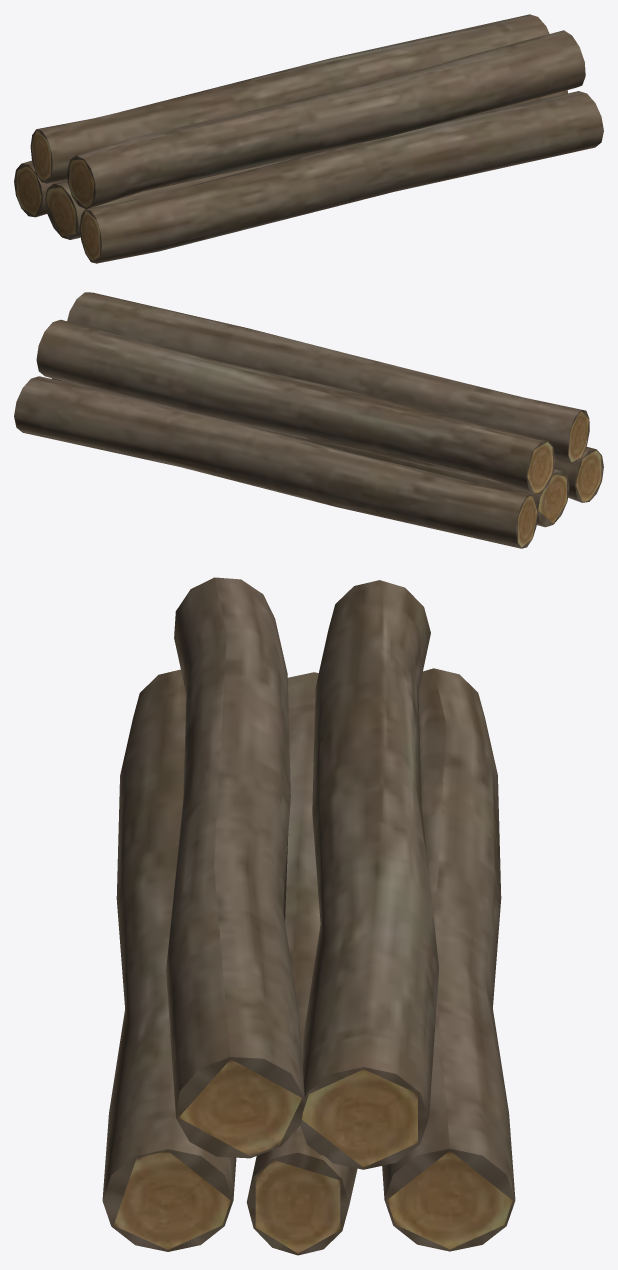
File: log-pile-s.lod0.glb
3 views of the same model, one above another, from view 1: azimuth 30°, elevation 25°; view 2: azimuth 150°, elevation 25°; view 3: azimuth 270°, elevation 25° (orthographic). The views are drawn at different scales.
Visible parts, largest first — view 1: Cylinder.008_Log_0; view 2: Cylinder.008_Log_0; view 3: Cylinder.008_Log_0.
Part boxes in pixels (bbox=[...]): Cylinder.008_Log_0: bbox=[14, 14, 603, 263]; Cylinder.008_Log_0: bbox=[14, 292, 603, 548]; Cylinder.008_Log_0: bbox=[102, 577, 515, 1255].
Size of the model in its own units: 3.2 by 0.6024 by 1.15.
1 material, 1 textured.
